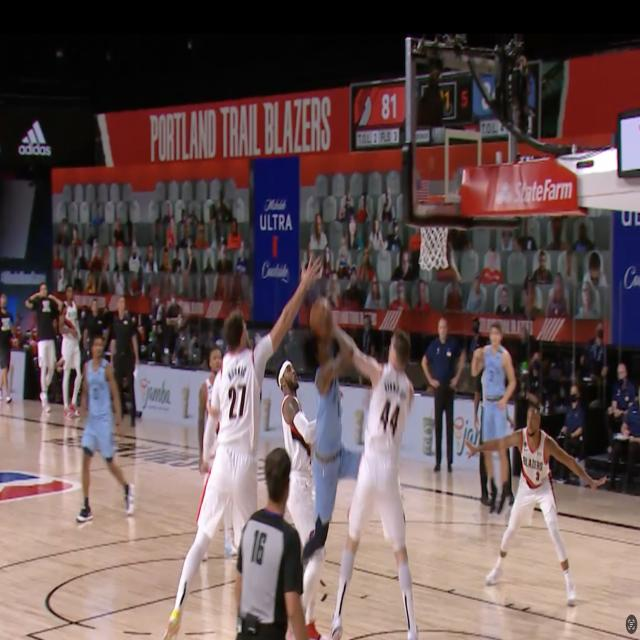no foul: (182, 220, 270, 628), (340, 301, 430, 640), (294, 275, 365, 590), (238, 448, 329, 640), (271, 372, 322, 589)
